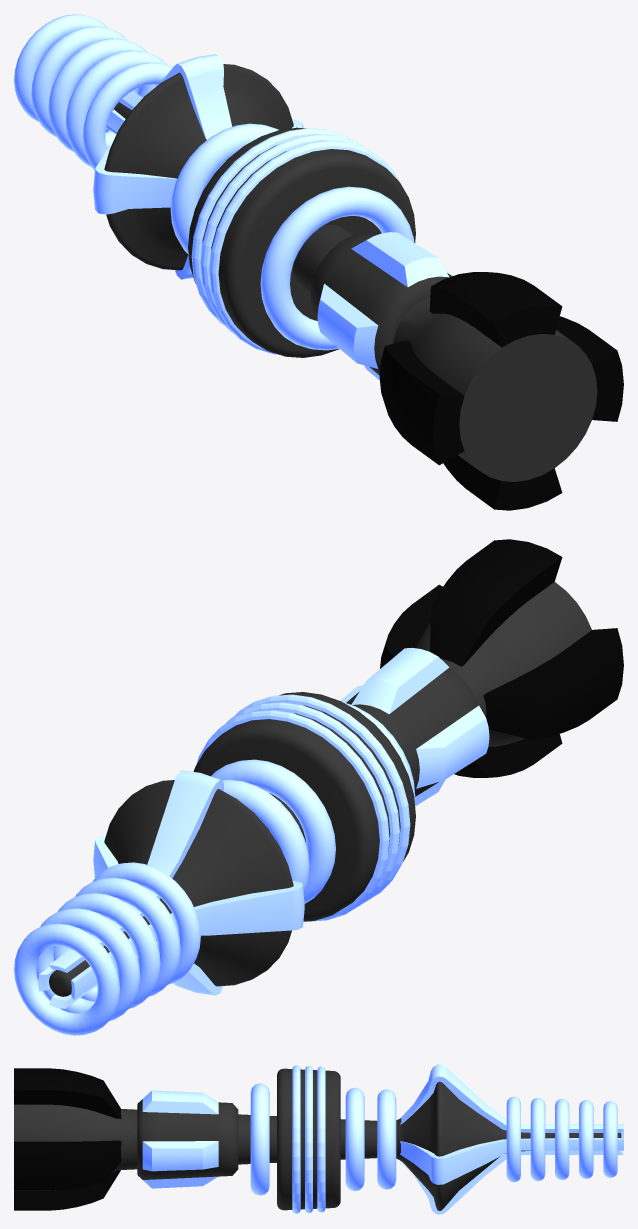
Rendered from BeaconTower3.fbx.
3 renders of one model, top to bottom at view 1: azimuth 30°, elevation 25°; view 2: azimuth 150°, elevation 25°; view 3: azimuth 270°, elevation 25°, orthographic. The views are drawn at different scales.
Parts seen in each view (by area): view 1: Cylinder, Cylinder.004, Cylinder.003, Cylinder_Curve.001, Cylinder_Curve.003, Cylinder.005, Cylinder_Curve.005, Cylinder.006, Cylinder.007, Cylinder_Curve.006, Cylinder_Curve.008, Cylinder_Curve.007 (+2 smaller); view 2: Cylinder, Cylinder.004, Cylinder.003, Cylinder_Curve.001, Cylinder.005, Cylinder_Curve.010, Cylinder.006, Cylinder.007, Cylinder_Curve.004, Cylinder_Curve.009, Cylinder_Curve.008, Cylinder_Curve.006 (+2 smaller); view 3: Cylinder, Cylinder.004, Cylinder.003, Cylinder.005, Cylinder_Curve.001, Cylinder.006, Cylinder.007, Cylinder_Curve.003, Cylinder_Curve.004, Cylinder_Curve.005, Cylinder_Curve.007, Cylinder_Curve.006 (+3 smaller).
Part boxes in pixels (box(x1,y1,x2,y2)): Cylinder: box(104, 64, 597, 481); Cylinder.004: box(429, 272, 562, 510); Cylinder.003: box(379, 316, 623, 465); Cylinder_Curve.001: box(191, 128, 400, 354); Cylinder_Curve.003: box(260, 186, 414, 350); Cylinder.005: box(317, 232, 453, 380); Cylinder_Curve.005: box(170, 123, 278, 254); Cylinder.006: box(106, 54, 232, 279); Cylinder.007: box(93, 109, 303, 214); Cylinder_Curve.006: box(82, 62, 172, 170); Cylinder_Curve.008: box(48, 38, 155, 152); Cylinder_Curve.007: box(65, 50, 166, 167); Cylinder: box(49, 582, 591, 996); Cylinder.004: box(430, 539, 562, 777); Cylinder.003: box(380, 584, 623, 740); Cylinder_Curve.001: box(196, 694, 410, 921); Cylinder.005: box(340, 647, 489, 806); Cylinder_Curve.010: box(14, 923, 119, 1035); Cylinder.006: box(49, 770, 223, 1008); Cylinder.007: box(38, 835, 304, 999); Cylinder_Curve.004: box(211, 759, 335, 903); Cylinder_Curve.009: box(36, 908, 140, 1021); Cylinder_Curve.008: box(53, 893, 160, 1008); Cylinder_Curve.006: box(90, 862, 200, 984); Cylinder: box(14, 1068, 621, 1210); Cylinder.004: box(14, 1068, 121, 1210); Cylinder.003: box(14, 1140, 121, 1190); Cylinder.005: box(142, 1090, 218, 1188); Cylinder_Curve.001: box(292, 1065, 325, 1213); Cylinder.006: box(400, 1064, 623, 1214); Cylinder.007: box(400, 1128, 623, 1184); Cylinder_Curve.003: box(250, 1083, 269, 1195); Cylinder_Curve.004: box(345, 1087, 364, 1191); Cylinder_Curve.005: box(377, 1089, 396, 1189); Cylinder_Curve.007: box(530, 1097, 545, 1181); Cylinder_Curve.006: box(506, 1096, 520, 1182).
Size of the model in its own units: 302 by 302 by 1184.
